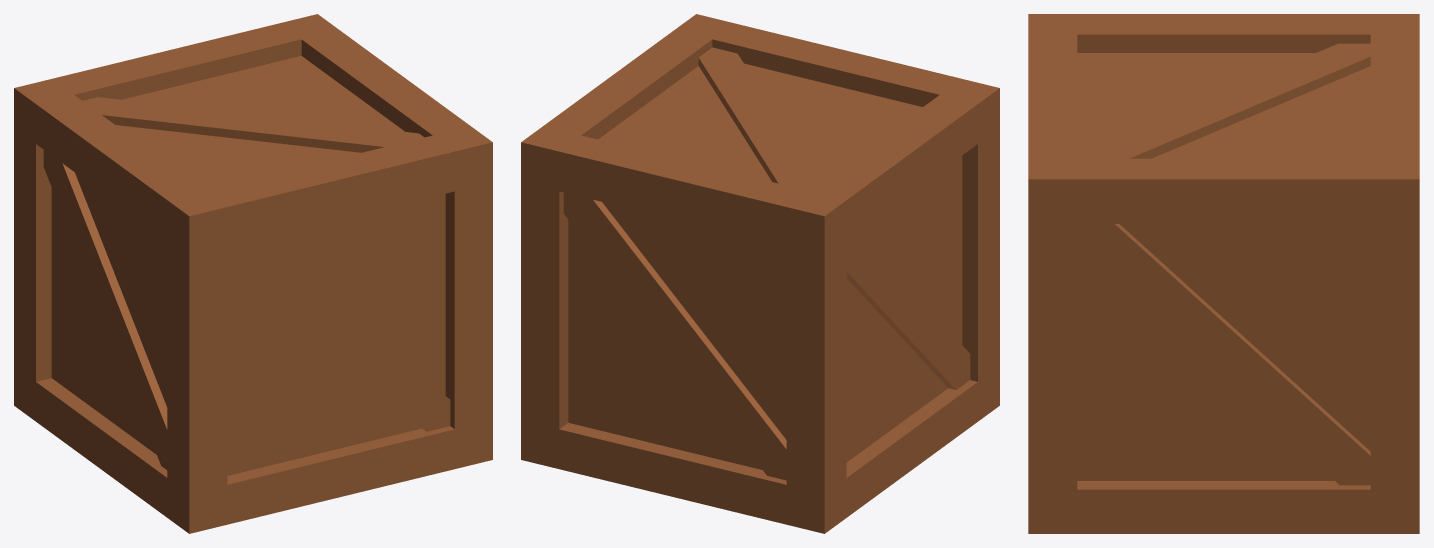
File: Crate_Small.fbx
3 renders of one model, left to right at view 1: azimuth 30°, elevation 25°; view 2: azimuth 150°, elevation 25°; view 3: azimuth 270°, elevation 25°, orthographic. The views are drawn at different scales.
Visible parts, largest first — view 1: Cube; view 2: Cube; view 3: Cube.
Boxes of the visible parts, <box> form: Cube: <box>14,14,492,533</box>; Cube: <box>521,14,999,533</box>; Cube: <box>1028,14,1419,533</box>.
Size of the model in its own units: 100 by 100 by 100.
